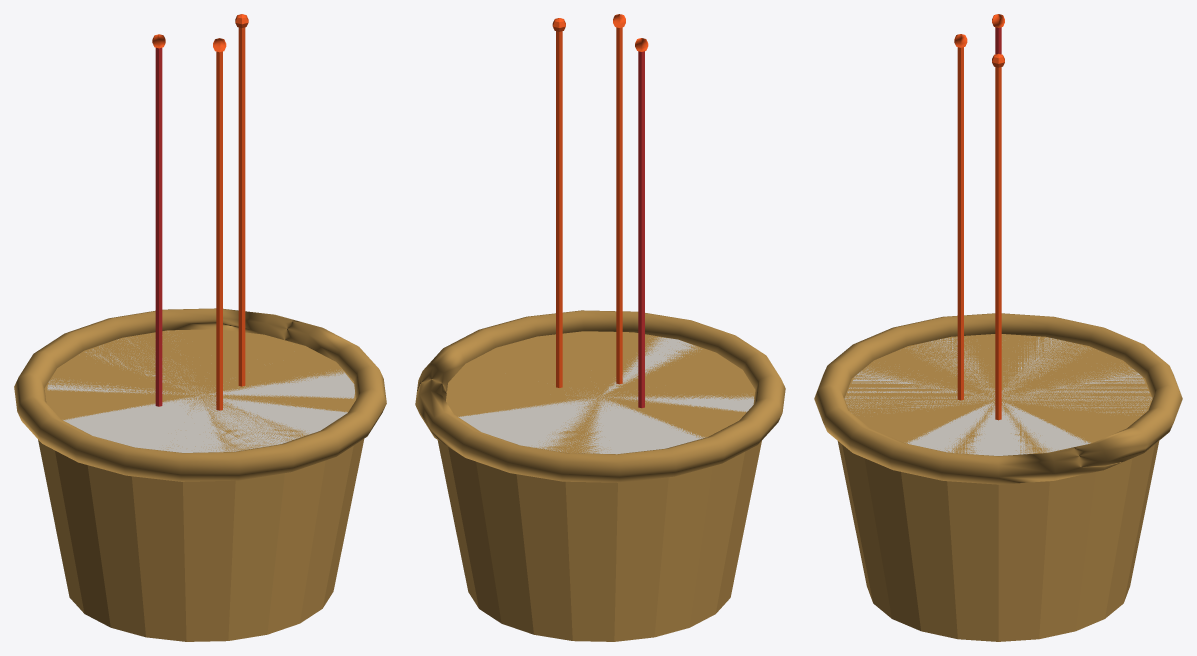
Rendered from bat_nhang_tram.obj.
The picture shows the model from 3 angles, left to right: view 1: azimuth 30°, elevation 25°; view 2: azimuth 150°, elevation 25°; view 3: azimuth 270°, elevation 25°; orthographic projection.
Bounding box in the file's own units: 0.196 × 0.324 × 0.196.
